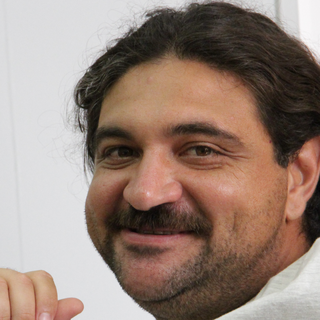eye: (179, 140, 232, 164), (97, 141, 142, 165)
